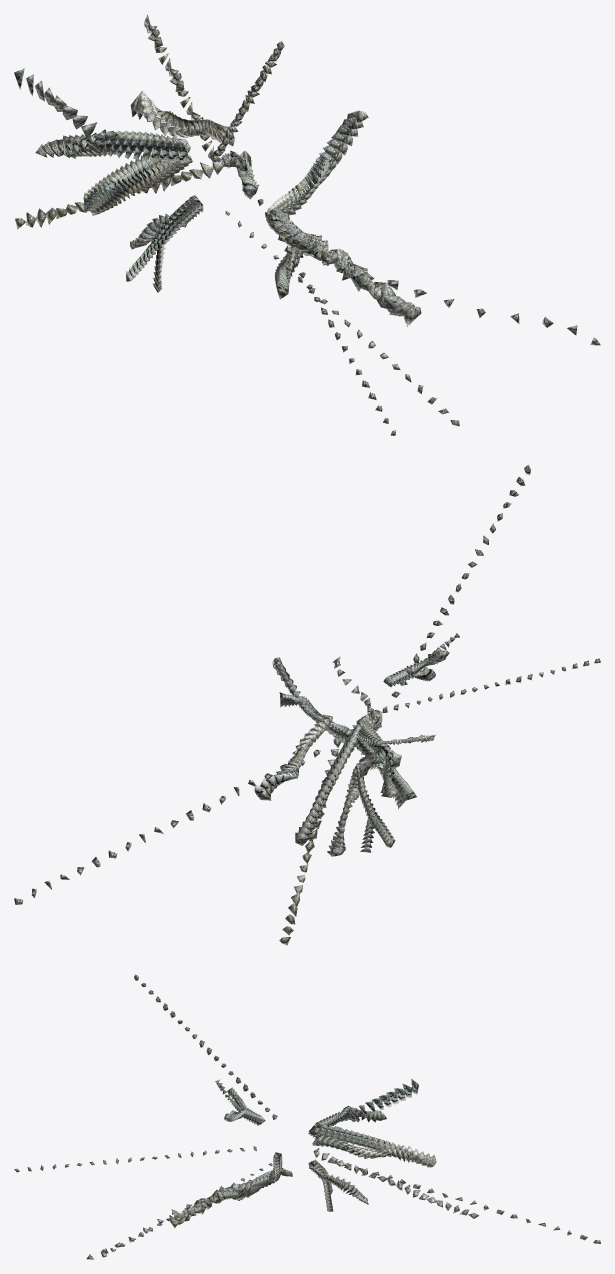
File: mesh_capcom_debris_stone00_multi.fbx
3 renders of one model, top to bottom at view 1: azimuth 30°, elevation 25°; view 2: azimuth 150°, elevation 25°; view 3: azimuth 270°, elevation 25°, orthographic. The views are drawn at different scales.
Parts seen in each view (by area): view 1: LODGroup_1_MainMesh_20_SubMesh_1, LODGroup_1_MainMesh_17_SubMesh_1, LODGroup_1_MainMesh_18_SubMesh_1, LODGroup_1_MainMesh_16_SubMesh_1, LODGroup_1_MainMesh_14_SubMesh_1, LODGroup_1_MainMesh_15_SubMesh_1, LODGroup_1_MainMesh_19_SubMesh_1, LODGroup_1_MainMesh_13_SubMesh_1, LODGroup_1_MainMesh_12_SubMesh_1, LODGroup_1_MainMesh_8_SubMesh_1, LODGroup_1_MainMesh_11_SubMesh_1, LODGroup_1_MainMesh_7_SubMesh_1 (+8 smaller); view 2: LODGroup_1_MainMesh_20_SubMesh_1, LODGroup_1_MainMesh_19_SubMesh_1, LODGroup_1_MainMesh_18_SubMesh_1, LODGroup_1_MainMesh_17_SubMesh_1, LODGroup_1_MainMesh_16_SubMesh_1, LODGroup_1_MainMesh_15_SubMesh_1, LODGroup_1_MainMesh_14_SubMesh_1, LODGroup_1_MainMesh_13_SubMesh_1, LODGroup_1_MainMesh_12_SubMesh_1, LODGroup_1_MainMesh_11_SubMesh_1, LODGroup_1_MainMesh_10_SubMesh_1, LODGroup_1_MainMesh_9_SubMesh_1; view 3: LODGroup_1_MainMesh_20_SubMesh_1, LODGroup_1_MainMesh_19_SubMesh_1, LODGroup_1_MainMesh_18_SubMesh_1, LODGroup_1_MainMesh_16_SubMesh_1, LODGroup_1_MainMesh_17_SubMesh_1, LODGroup_1_MainMesh_15_SubMesh_1, LODGroup_1_MainMesh_1_SubMesh_1, LODGroup_1_MainMesh_12_SubMesh_1, LODGroup_1_MainMesh_14_SubMesh_1, LODGroup_1_MainMesh_13_SubMesh_1, LODGroup_1_MainMesh_11_SubMesh_1, LODGroup_1_MainMesh_10_SubMesh_1 (+8 smaller).
Boxes of the visible parts, <box> form: LODGroup_1_MainMesh_20_SubMesh_1: <box>14,14,600,435</box>; LODGroup_1_MainMesh_17_SubMesh_1: <box>43,36,519,399</box>; LODGroup_1_MainMesh_18_SubMesh_1: <box>35,29,553,411</box>; LODGroup_1_MainMesh_16_SubMesh_1: <box>53,47,485,387</box>; LODGroup_1_MainMesh_14_SubMesh_1: <box>72,58,426,363</box>; LODGroup_1_MainMesh_15_SubMesh_1: <box>62,53,454,375</box>; LODGroup_1_MainMesh_19_SubMesh_1: <box>26,25,577,423</box>; LODGroup_1_MainMesh_13_SubMesh_1: <box>81,68,398,352</box>; LODGroup_1_MainMesh_12_SubMesh_1: <box>93,73,373,339</box>; LODGroup_1_MainMesh_8_SubMesh_1: <box>117,102,328,293</box>; LODGroup_1_MainMesh_11_SubMesh_1: <box>99,80,350,327</box>; LODGroup_1_MainMesh_7_SubMesh_1: <box>124,110,321,282</box>; LODGroup_1_MainMesh_20_SubMesh_1: <box>14,464,600,945</box>; LODGroup_1_MainMesh_19_SubMesh_1: <box>31,477,589,935</box>; LODGroup_1_MainMesh_18_SubMesh_1: <box>44,490,577,924</box>; LODGroup_1_MainMesh_17_SubMesh_1: <box>60,502,565,916</box>; LODGroup_1_MainMesh_16_SubMesh_1: <box>77,513,554,906</box>; LODGroup_1_MainMesh_15_SubMesh_1: <box>91,523,543,893</box>; LODGroup_1_MainMesh_14_SubMesh_1: <box>108,535,532,882</box>; LODGroup_1_MainMesh_13_SubMesh_1: <box>125,549,521,872</box>; LODGroup_1_MainMesh_12_SubMesh_1: <box>139,561,510,863</box>; LODGroup_1_MainMesh_11_SubMesh_1: <box>154,573,499,852</box>; LODGroup_1_MainMesh_10_SubMesh_1: <box>170,583,489,841</box>; LODGroup_1_MainMesh_9_SubMesh_1: <box>186,594,477,829</box>; LODGroup_1_MainMesh_20_SubMesh_1: <box>14,974,600,1259</box>; LODGroup_1_MainMesh_19_SubMesh_1: <box>27,983,587,1253</box>; LODGroup_1_MainMesh_18_SubMesh_1: <box>40,990,571,1247</box>; LODGroup_1_MainMesh_16_SubMesh_1: <box>65,1003,546,1236</box>; LODGroup_1_MainMesh_17_SubMesh_1: <box>52,996,560,1242</box>; LODGroup_1_MainMesh_15_SubMesh_1: <box>76,1011,530,1231</box>; LODGroup_1_MainMesh_1_SubMesh_1: <box>253,1114,337,1183</box>; LODGroup_1_MainMesh_12_SubMesh_1: <box>115,1034,488,1214</box>; LODGroup_1_MainMesh_14_SubMesh_1: <box>89,1020,517,1225</box>; LODGroup_1_MainMesh_13_SubMesh_1: <box>103,1027,504,1221</box>; LODGroup_1_MainMesh_11_SubMesh_1: <box>128,1040,476,1209</box>; LODGroup_1_MainMesh_10_SubMesh_1: <box>140,1047,462,1201</box>.
Size of the model in its own units: 605 by 723 by 1602.
